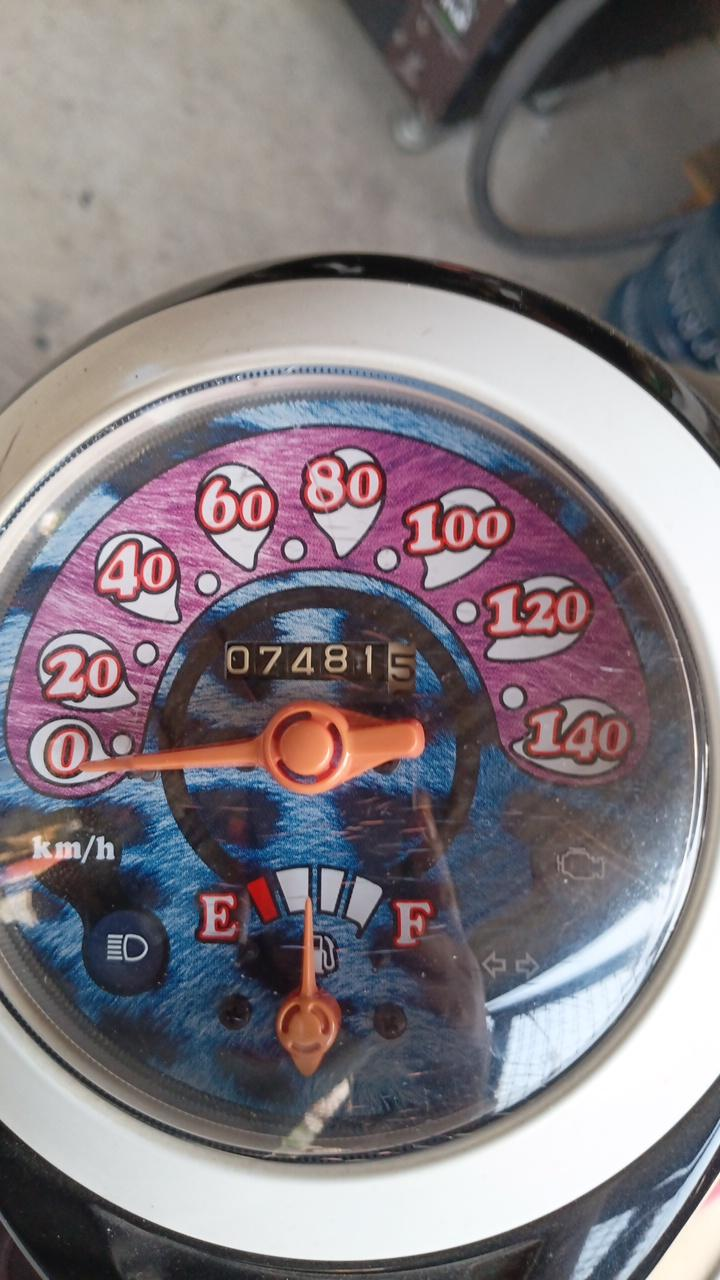0: (225, 644, 250, 675)
1: (363, 644, 373, 677)
4: (291, 645, 315, 677)
5: (390, 651, 416, 684)
7: (257, 645, 282, 676)
8: (323, 645, 349, 674)
odometer: (223, 638, 418, 701)
